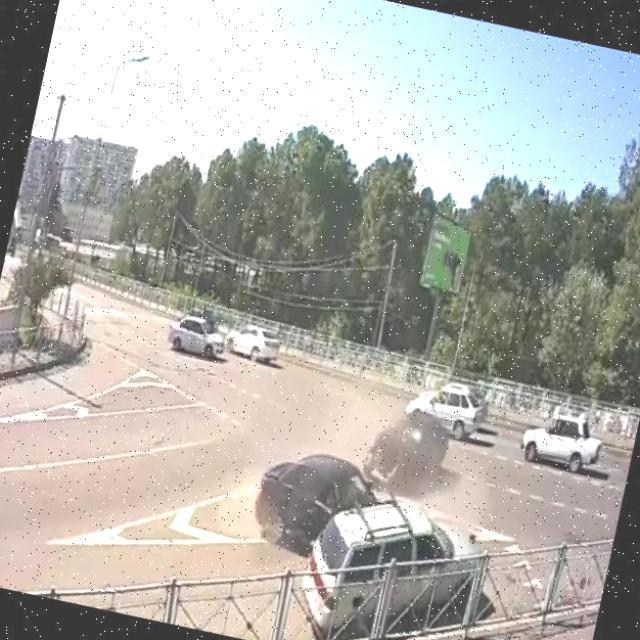accident: (233, 375, 517, 640)
